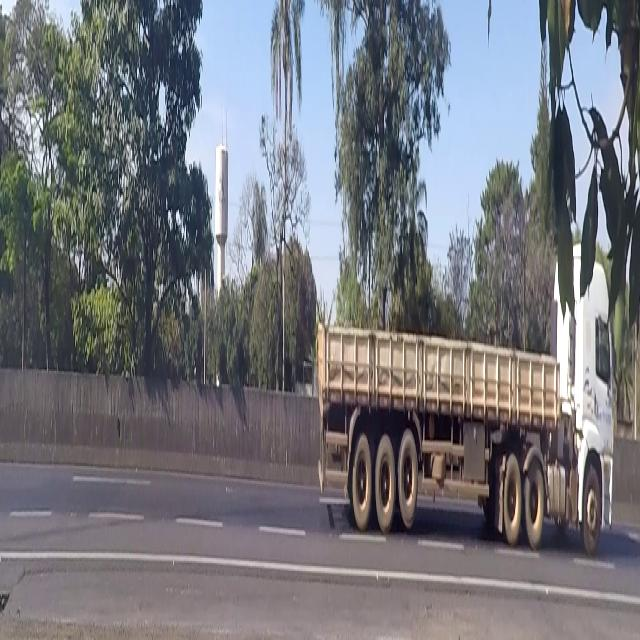-axle: (521, 440, 547, 556), (582, 455, 605, 567), (398, 424, 420, 537), (351, 424, 372, 540), (500, 443, 520, 551), (374, 429, 394, 535)
